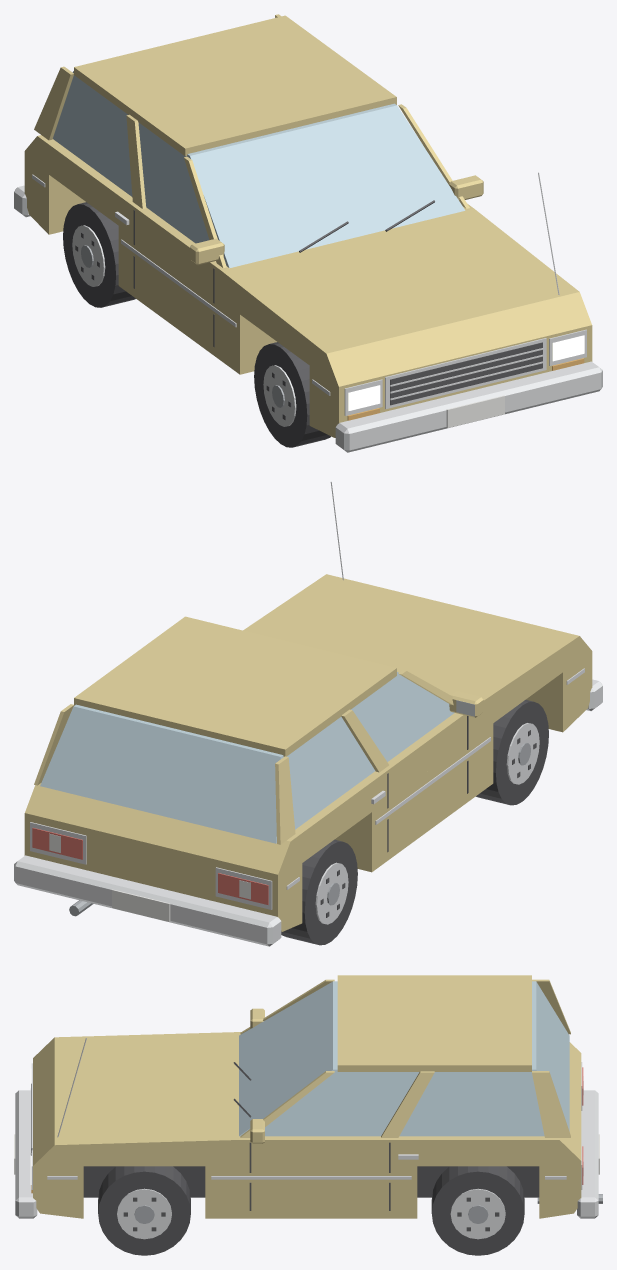
Rendered from car_hatch_y.glb.
The picture shows the model from 3 angles, top to bottom: view 1: azimuth 30°, elevation 25°; view 2: azimuth 150°, elevation 25°; view 3: azimuth 270°, elevation 25°; orthographic projection. The views are drawn at different scales.
Parts seen in each view (by area): view 1: car_hatch_y_car_y, car_hatch_y_glass, car_hatch_y_chrome, car_hatch_y_rubber, car_hatch_y_dark, car_hatch_y_lamp_glass, car_hatch_y_paint_w; view 2: car_hatch_y_car_y, car_hatch_y_glass, car_hatch_y_chrome, car_hatch_y_rubber, car_hatch_y_neon_r, car_hatch_y_paint_w, car_hatch_y_steel; view 3: car_hatch_y_car_y, car_hatch_y_glass, car_hatch_y_rubber, car_hatch_y_chrome, car_hatch_y_dark, car_hatch_y_steel.
Boxes of the visible parts, left/top/right/bottom form: car_hatch_y_car_y: left=24, top=14, right=592, bottom=437; car_hatch_y_glass: left=53, top=71, right=465, bottom=268; car_hatch_y_chrome: left=14, top=172, right=602, bottom=452; car_hatch_y_rubber: left=63, top=202, right=330, bottom=447; car_hatch_y_dark: left=75, top=200, right=542, bottom=420; car_hatch_y_lamp_glass: left=348, top=335, right=584, bottom=410; car_hatch_y_paint_w: left=446, top=395, right=504, bottom=427; car_hatch_y_car_y: left=24, top=574, right=592, bottom=931; car_hatch_y_glass: left=40, top=672, right=454, bottom=843; car_hatch_y_chrome: left=14, top=481, right=602, bottom=946; car_hatch_y_rubber: left=281, top=699, right=548, bottom=945; car_hatch_y_neon_r: left=32, top=828, right=268, bottom=904; car_hatch_y_paint_w: left=49, top=833, right=250, bottom=921; car_hatch_y_steel: left=69, top=742, right=530, bottom=916; car_hatch_y_car_y: left=33, top=975, right=581, bottom=1218; car_hatch_y_glass: left=239, top=981, right=569, bottom=1136; car_hatch_y_rubber: left=83, top=1166, right=539, bottom=1255; car_hatch_y_chrome: left=15, top=1038, right=598, bottom=1239; car_hatch_y_dark: left=31, top=1062, right=499, bottom=1231; car_hatch_y_steel: left=134, top=1194, right=602, bottom=1223.
Bounding box in the file's own units: 2 × 1.6 × 4.06.
